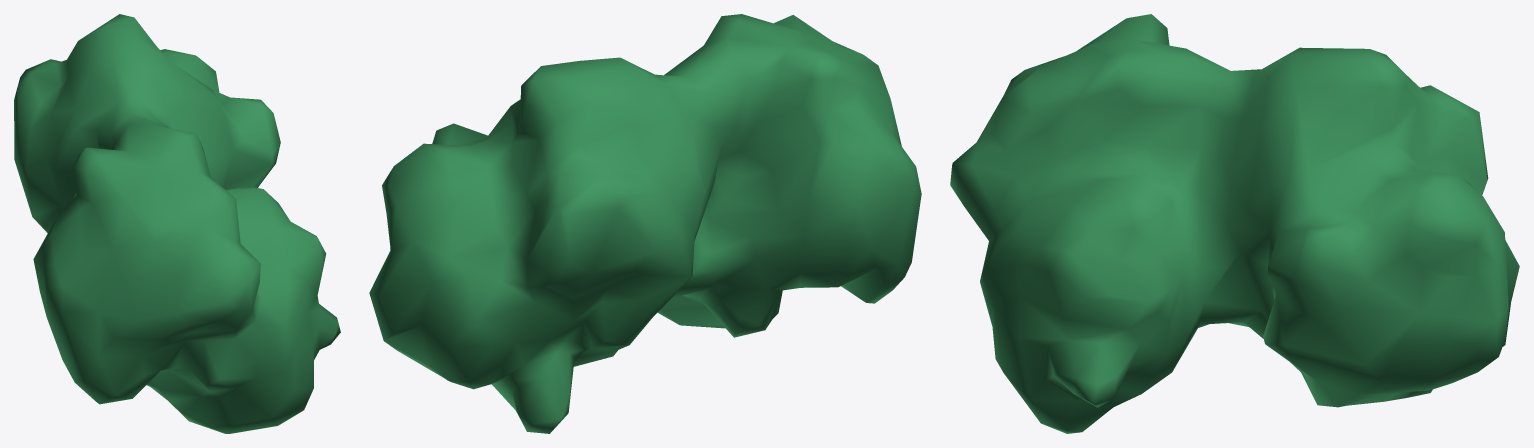
File: Transferrin.dae
The picture shows the model from 3 angles, left to right: view 1: azimuth 30°, elevation 25°; view 2: azimuth 150°, elevation 25°; view 3: azimuth 270°, elevation 25°; orthographic projection. The views are drawn at different scales.
Visible parts, largest first — view 1: CoarseMS_1lfgRed90; view 2: CoarseMS_1lfgRed90; view 3: CoarseMS_1lfgRed90.
Part boxes in pixels (x1,y1,x2,y2): CoarseMS_1lfgRed90: [14, 14, 340, 433]; CoarseMS_1lfgRed90: [369, 14, 921, 433]; CoarseMS_1lfgRed90: [950, 14, 1519, 433].
Size of the model in its own units: 69.6 by 64.41 by 92.2.
